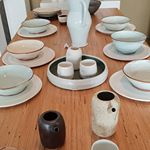cups: (54, 59, 77, 83), (77, 57, 101, 79)
